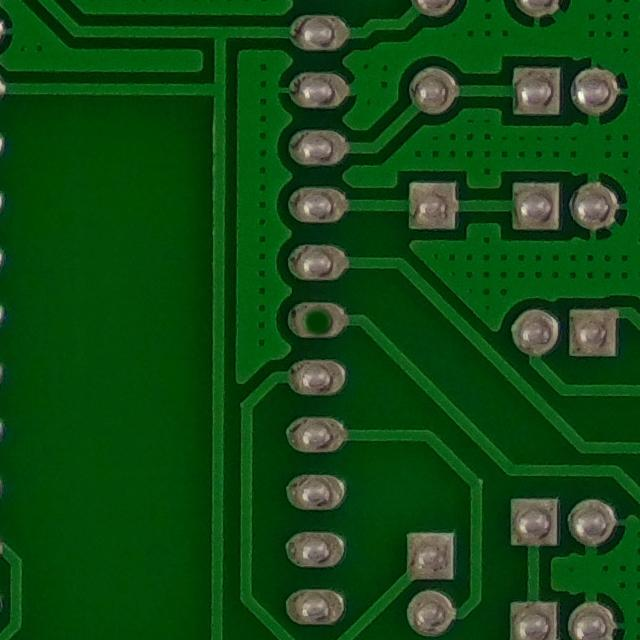missing_hole: (288, 294, 352, 347)
